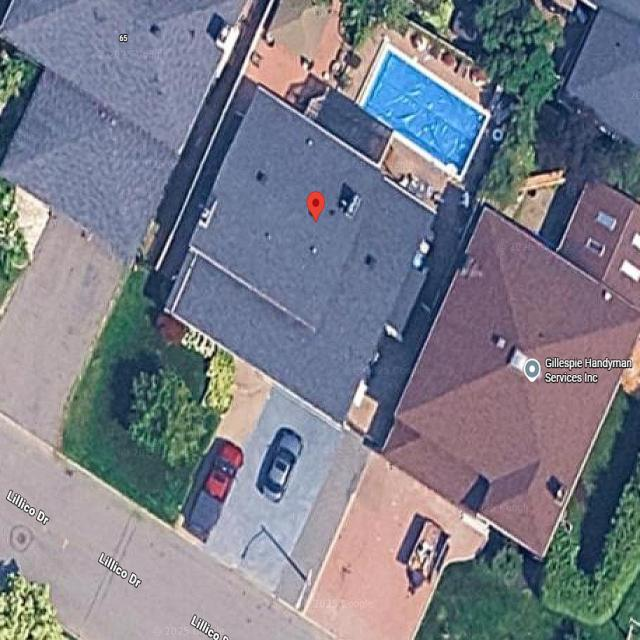Building: (161, 84, 437, 427)
boundaryof property: (59, 0, 575, 617)
obstacle: (187, 442, 244, 542), (256, 427, 301, 501)
walkways: (207, 389, 346, 591)
